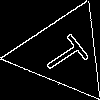T: (38, 28, 99, 80)
